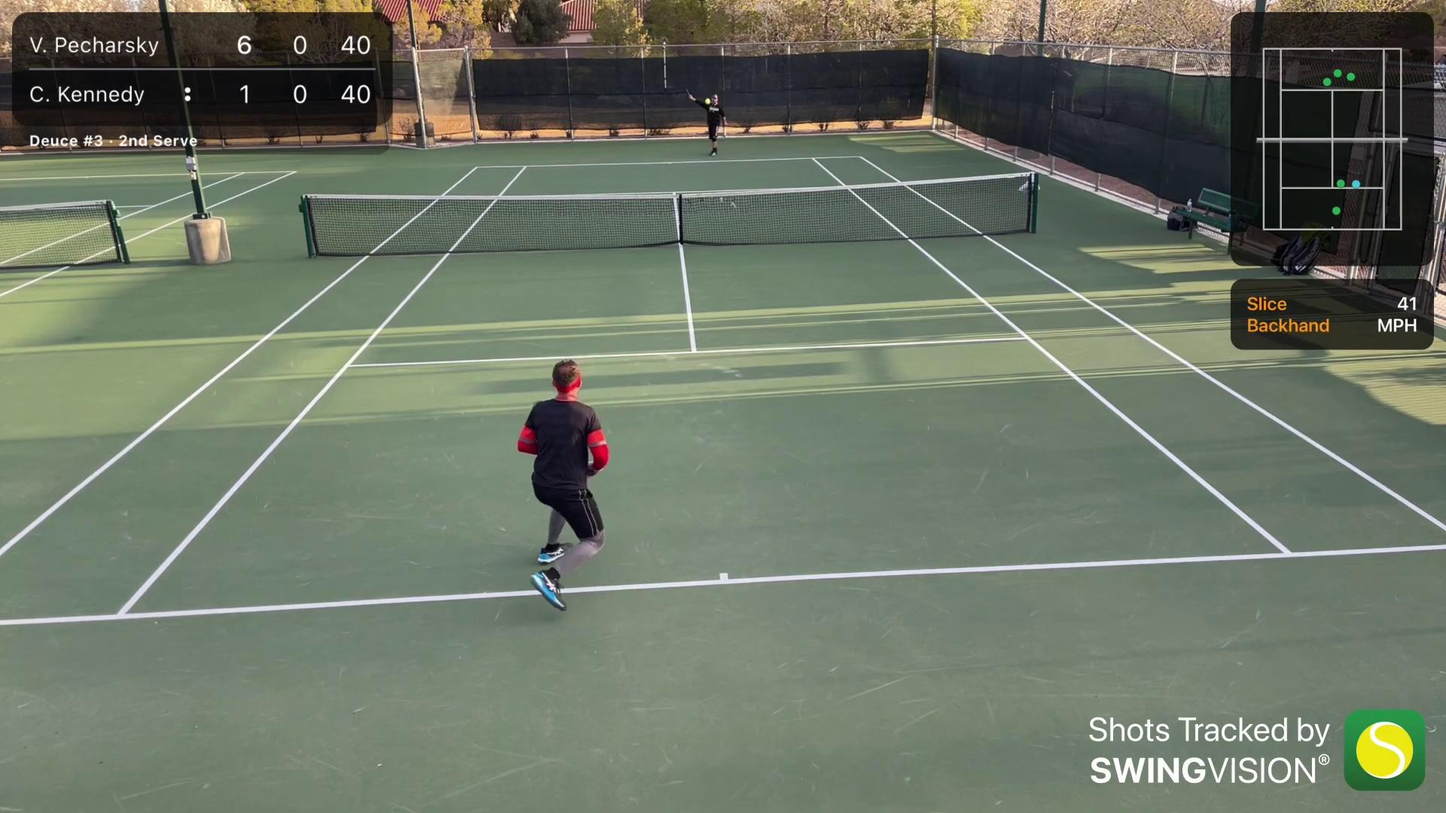ball: (704, 98, 711, 105)
